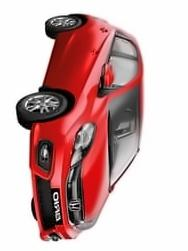Car hood: (81, 97, 113, 231)
Driver-s door - -F-R-: (40, 48, 143, 92)
Fender - -F-R-: (37, 77, 106, 129)
Front bumper: (29, 116, 80, 241)
Headlight - -R-: (63, 122, 97, 170)
Passenger-s door - -R-R-: (50, 24, 146, 63)
Side bumper - -R-: (39, 28, 69, 92)
Side mirror - -R-: (98, 62, 115, 91)
